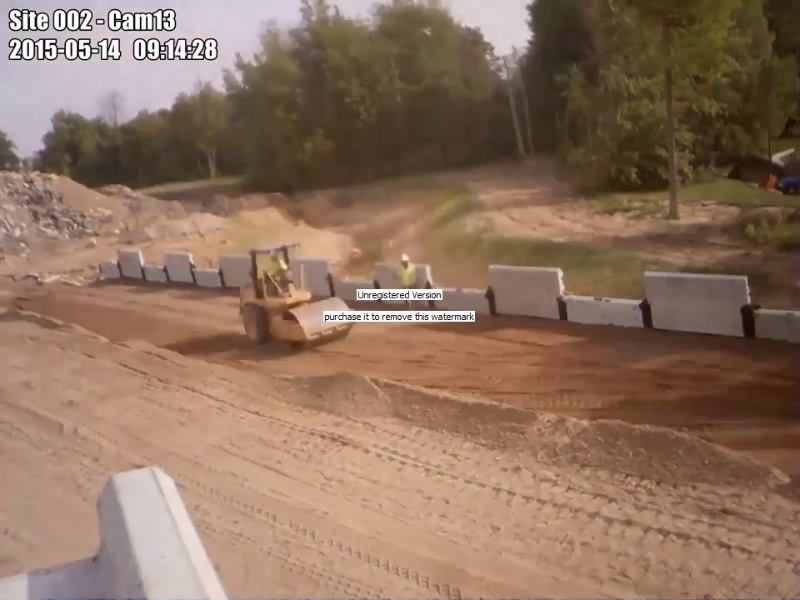hardhat: (399, 254, 411, 262)
person: (398, 253, 416, 289)
roller: (238, 242, 354, 351)
wall: (98, 247, 800, 344)
